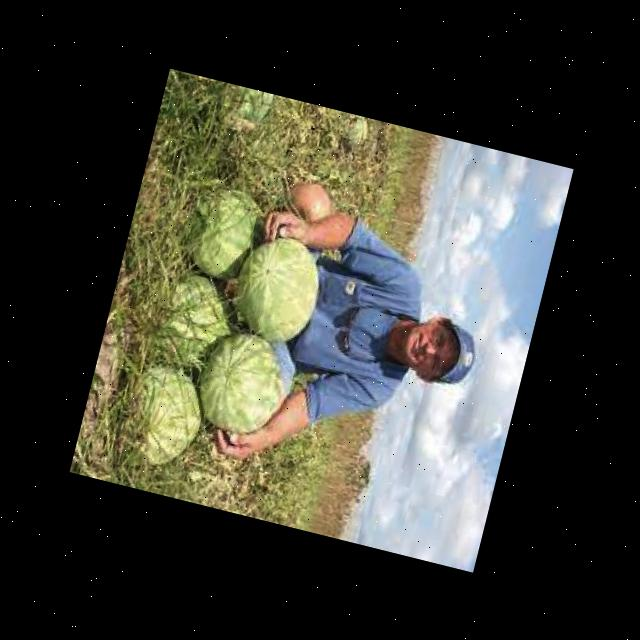watermelon: (224, 228, 329, 351), (188, 324, 296, 443), (114, 362, 210, 473), (147, 269, 241, 376), (179, 180, 270, 286), (210, 81, 274, 137), (340, 114, 370, 148)
